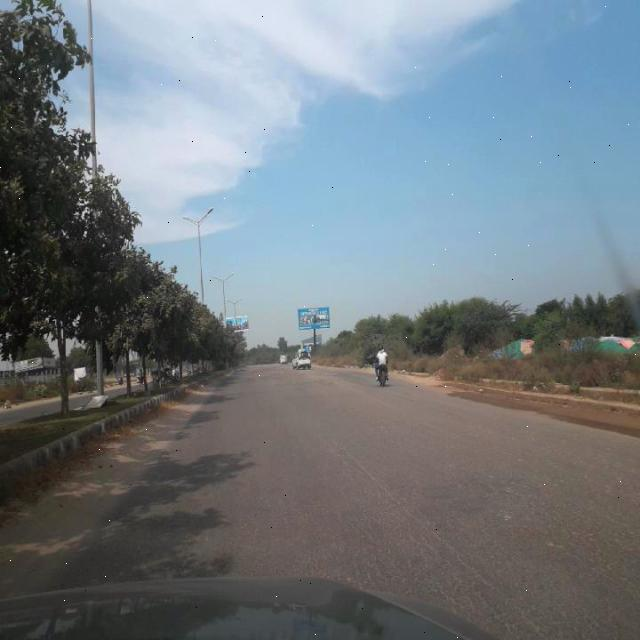D00: (310, 415, 542, 634)
D20: (298, 398, 634, 631)
